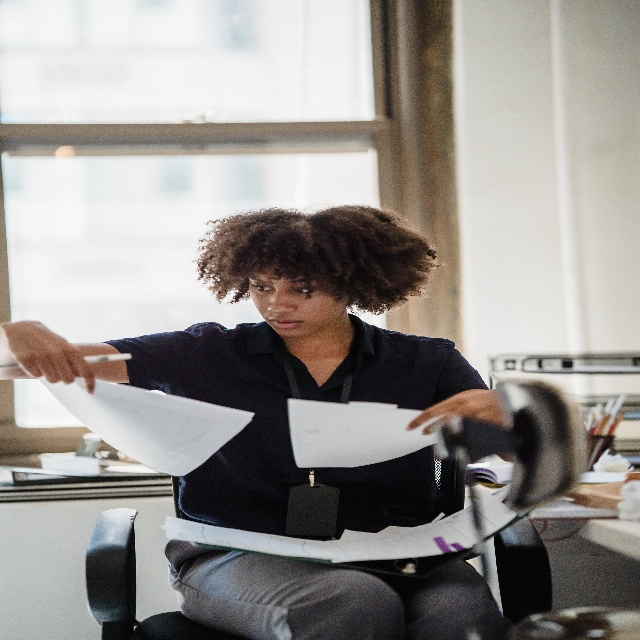Sin_guantes: (0, 316, 96, 396), (406, 388, 506, 435)
